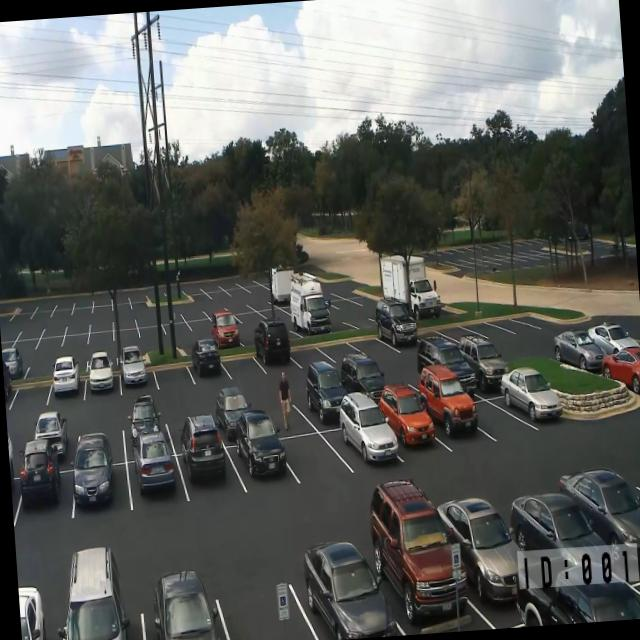car: (370, 506, 472, 636), (303, 540, 390, 640), (567, 480, 640, 589), (139, 583, 230, 640), (538, 577, 640, 624), (469, 517, 521, 606), (532, 492, 592, 569), (59, 591, 146, 640), (335, 408, 397, 476), (70, 461, 132, 522), (180, 446, 240, 506), (428, 390, 484, 454), (128, 454, 186, 514), (234, 438, 292, 497), (15, 468, 74, 526), (506, 377, 564, 432), (298, 374, 350, 430), (24, 416, 77, 470), (122, 406, 170, 459), (18, 589, 63, 640), (606, 336, 640, 403), (252, 329, 296, 379), (187, 340, 229, 390), (211, 392, 253, 442), (432, 330, 468, 384), (472, 334, 506, 389), (380, 316, 422, 358), (119, 354, 157, 397), (48, 370, 87, 408), (292, 301, 330, 339), (85, 366, 122, 404), (3, 372, 18, 418), (1, 342, 21, 374)
free: (215, 565, 321, 640), (284, 428, 342, 487), (244, 388, 301, 439), (164, 402, 218, 451), (474, 394, 524, 445), (74, 421, 126, 466), (222, 343, 264, 387), (345, 359, 388, 399), (154, 354, 194, 394), (288, 338, 329, 376), (10, 376, 52, 412), (355, 337, 396, 362), (322, 298, 347, 336), (318, 340, 359, 358), (262, 305, 291, 330), (102, 339, 126, 368), (111, 303, 136, 330), (89, 306, 113, 331), (134, 302, 158, 327), (66, 309, 92, 332), (235, 306, 262, 328), (63, 330, 90, 349), (36, 334, 64, 352), (137, 325, 165, 339), (182, 305, 205, 322), (187, 320, 213, 335), (16, 326, 40, 341), (88, 332, 116, 344), (15, 338, 36, 353), (114, 328, 140, 340), (53, 296, 73, 310), (72, 294, 92, 308), (16, 299, 36, 313), (92, 292, 112, 306), (0, 326, 17, 342), (36, 297, 54, 312), (188, 289, 208, 302), (226, 286, 247, 298), (247, 286, 272, 296), (44, 325, 66, 335), (208, 290, 230, 300), (54, 307, 72, 319), (0, 300, 15, 314), (13, 310, 32, 321), (112, 292, 129, 304), (128, 292, 148, 302), (112, 302, 134, 311), (0, 313, 14, 326), (34, 311, 52, 320)
